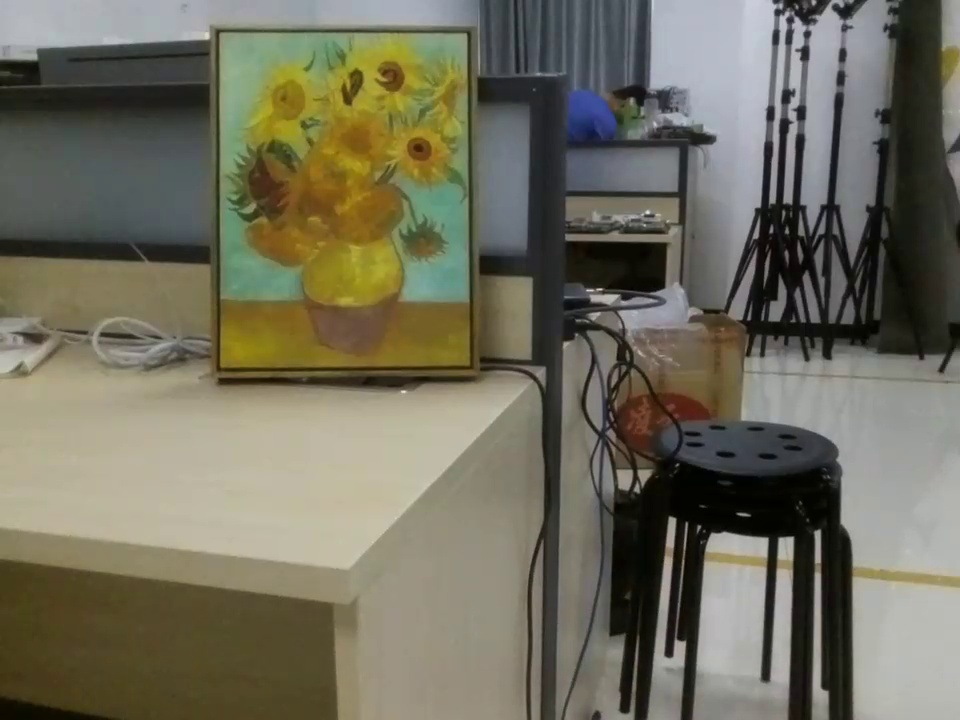painting: (193, 17, 504, 381)
